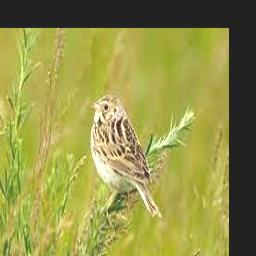Sparrow: (90, 95, 163, 219)
